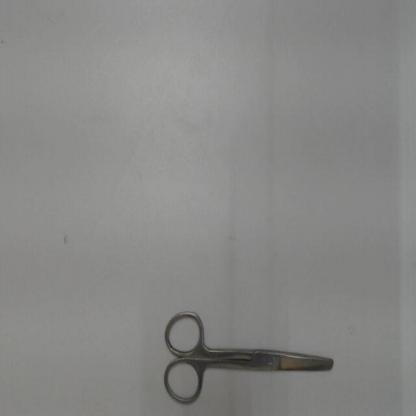Dressing Scissors: (154, 299, 346, 413)
